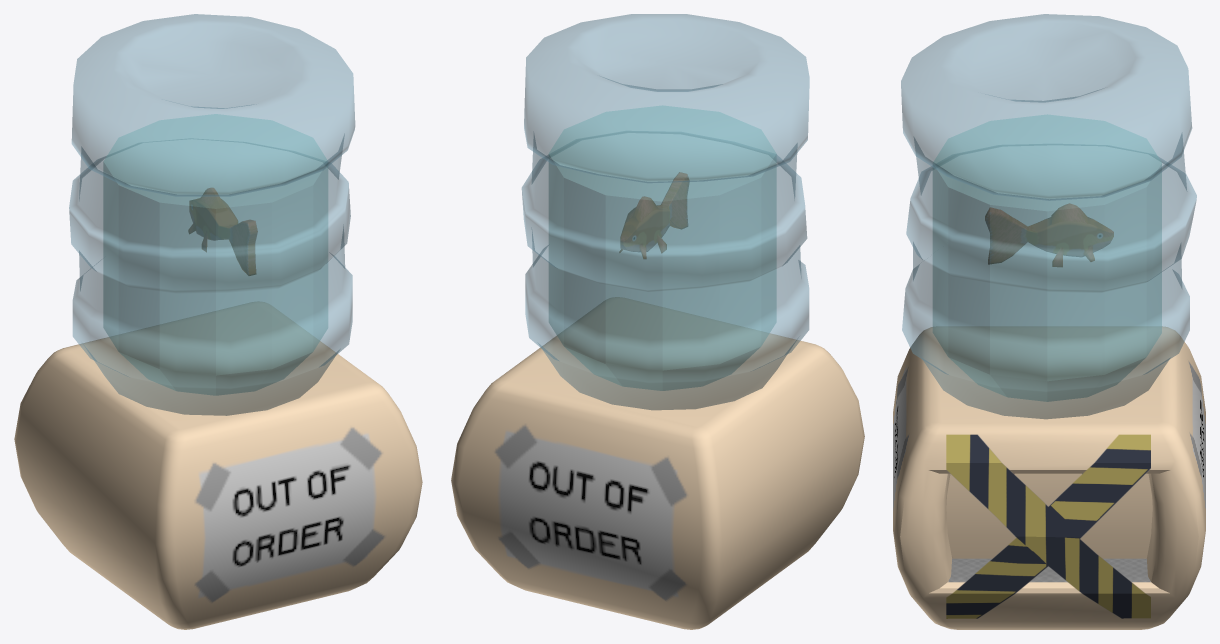
Rendered from Watercooler_DNU.glb.
The picture shows the model from 3 angles, left to right: view 1: azimuth 30°, elevation 25°; view 2: azimuth 150°, elevation 25°; view 3: azimuth 270°, elevation 25°; orthographic projection.
Parts seen in each view (by area): view 1: Jug, Base, Cylinder, Fishie; view 2: Jug, Base, Cylinder, Fishie; view 3: Jug, Base, Cylinder, DONOTUSE.002, Fishie.
Boxes of the visible parts, <box> form: Jug: <box>69,14,355,415</box>; Base: <box>14,301,422,629</box>; Cylinder: <box>103,114,327,395</box>; Fishie: <box>188,188,257,275</box>; Jug: <box>521,14,809,410</box>; Base: <box>451,297,864,629</box>; Cylinder: <box>549,105,776,390</box>; Fishie: <box>619,172,689,258</box>; Jug: <box>901,14,1196,419</box>; Base: <box>893,326,1205,629</box>; Cylinder: <box>933,114,1161,401</box>; DONOTUSE.002: <box>946,434,1150,618</box>; Fishie: <box>985,203,1113,266</box>.
Size of the model in its own units: 1.52 by 2.79 by 1.49.
Materials: 4 (4 with a texture image).
